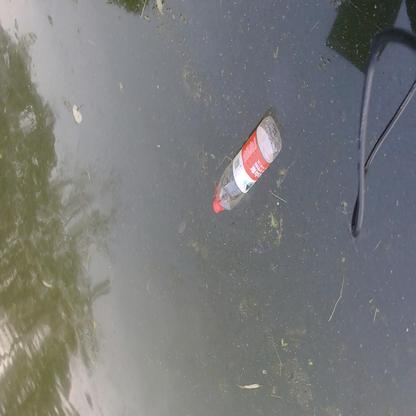plastic bottle: (211, 115, 282, 213)
